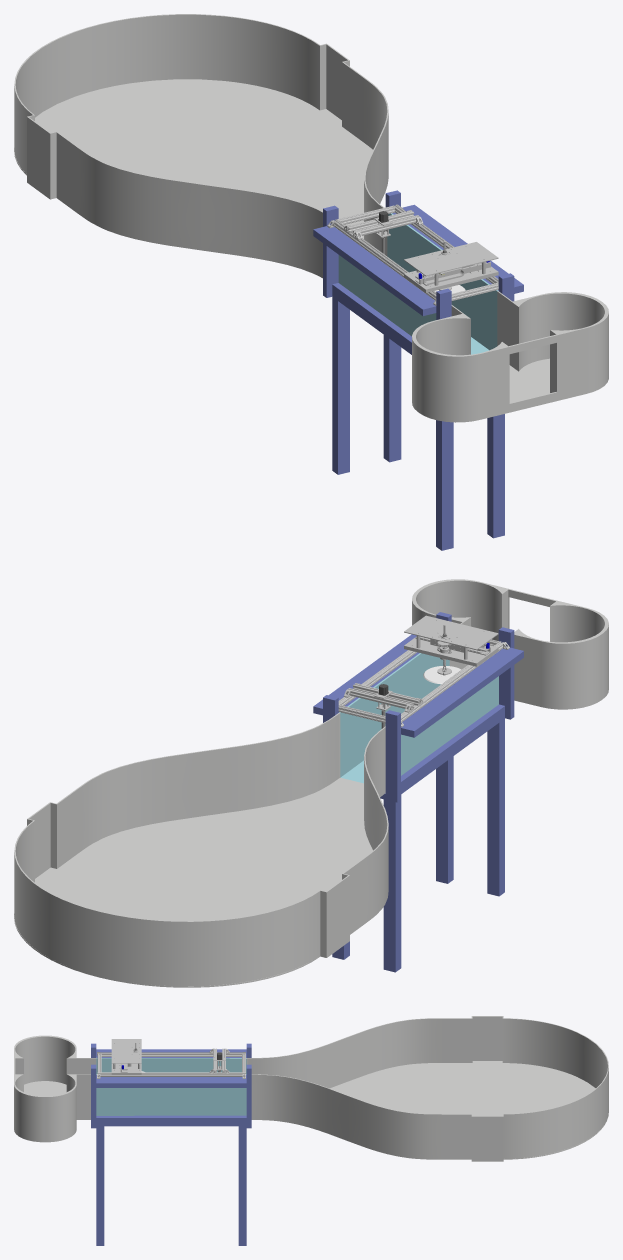
File: WaterTunnelCAD.glb
3 views of the same model, one above another, from view 1: azimuth 30°, elevation 25°; view 2: azimuth 150°, elevation 25°; view 3: azimuth 270°, elevation 25° (orthographic). The views are drawn at different scales.
Visible parts, largest first — view 1: Body1.003, Body1.002, Body1.001, Body2, Body1, Body1.027, Body1.012, Body1.005; view 2: Body1.002, Body1.003, Body2, Body1.001, Body1, Body1.027, Body1.012, Body1.005, Body1.004; view 3: Body1.003, Body1.002, Body1.001, Body2, Body1, Body1.027, Body1.004, Body1.005.
Part boxes in pixels (x1,y1,x2,y2): Body1.003: (14, 14, 364, 213); Body1.002: (77, 77, 388, 278); Body1.001: (412, 291, 608, 422); Body2: (313, 190, 523, 550); Body1: (338, 213, 498, 354); Body1.027: (404, 242, 498, 276); Body1.012: (404, 266, 498, 292); Body1.005: (332, 219, 436, 300); Body1.002: (78, 713, 388, 923); Body1.003: (14, 788, 364, 987); Body2: (313, 612, 523, 972); Body1.001: (412, 579, 608, 709); Body1: (339, 653, 498, 783); Body1.027: (404, 615, 498, 649); Body1.012: (404, 637, 498, 666); Body1.005: (401, 641, 504, 721); Body1.004: (338, 650, 416, 705); Body1.003: (442, 1016, 608, 1161); Body1.002: (246, 1018, 442, 1159); Body1.001: (14, 1035, 96, 1142); Body2: (91, 1043, 251, 1245); Body1: (96, 1057, 246, 1115); Body1.027: (111, 1039, 141, 1063); Body1.004: (97, 1072, 245, 1076); Body1.005: (97, 1052, 245, 1056).
Size of the model in its own units: 2.41 by 2.15 by 6.02.
